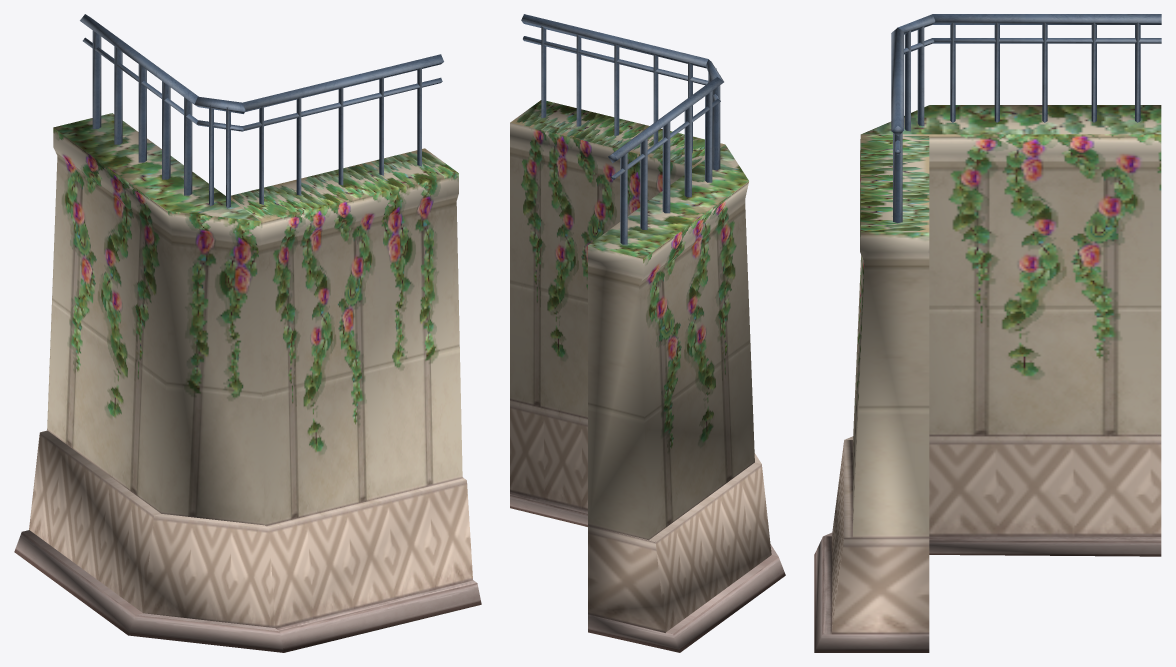
File: a_SEbwall01_1.glb
The picture shows the model from 3 angles, left to right: view 1: azimuth 30°, elevation 25°; view 2: azimuth 150°, elevation 25°; view 3: azimuth 270°, elevation 25°; orthographic projection. The views are drawn at different scales.
Parts seen in each view (by area): view 1: a_SEbwall01_1; view 2: a_SEbwall01_1; view 3: a_SEbwall01_1.
Part boxes in pixels (box(x1,y1,x2,y2)): a_SEbwall01_1: box(14, 14, 481, 652); a_SEbwall01_1: box(510, 14, 785, 652); a_SEbwall01_1: box(814, 14, 1161, 652).
Bounding box in the file's own units: 3.02 × 5.06 × 3.01.
1 material, 1 textured.
